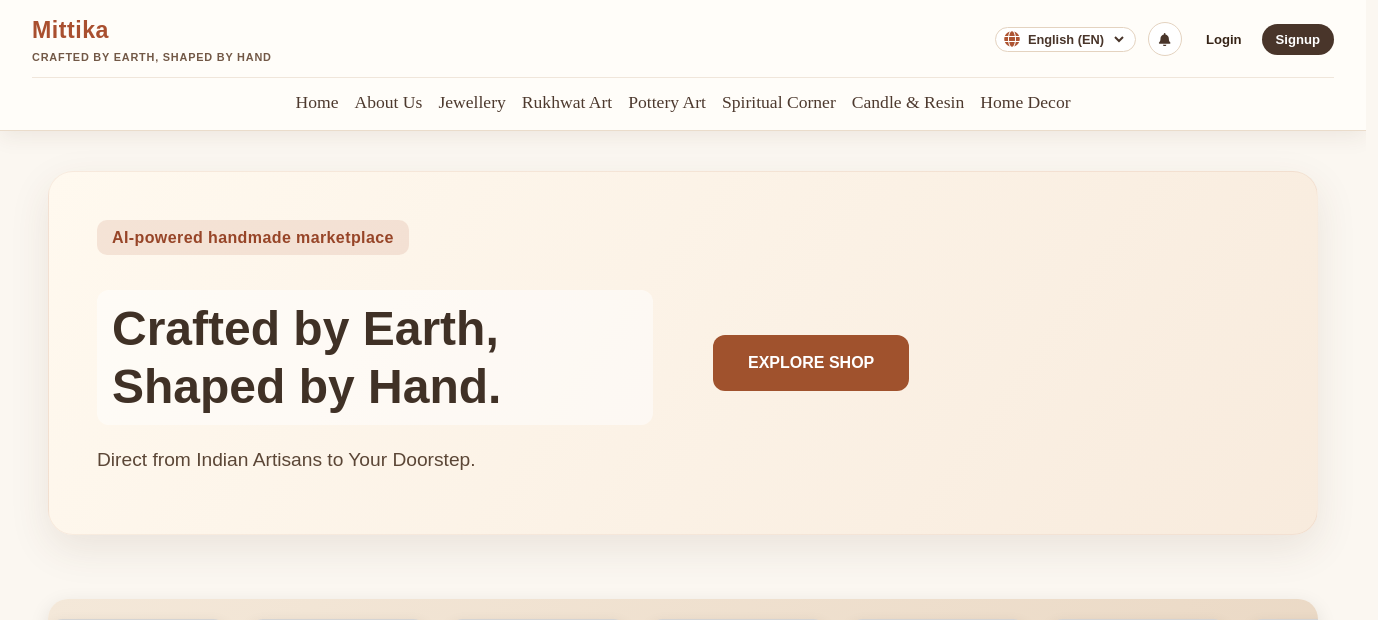
Test: switches storefront content to the selected language and remembers it
The width and height of the screenshot is (1378, 620).
Select "हिंदी (Hindi)" in the dropdown at (1075, 39), box [1024, 31, 1127, 48]
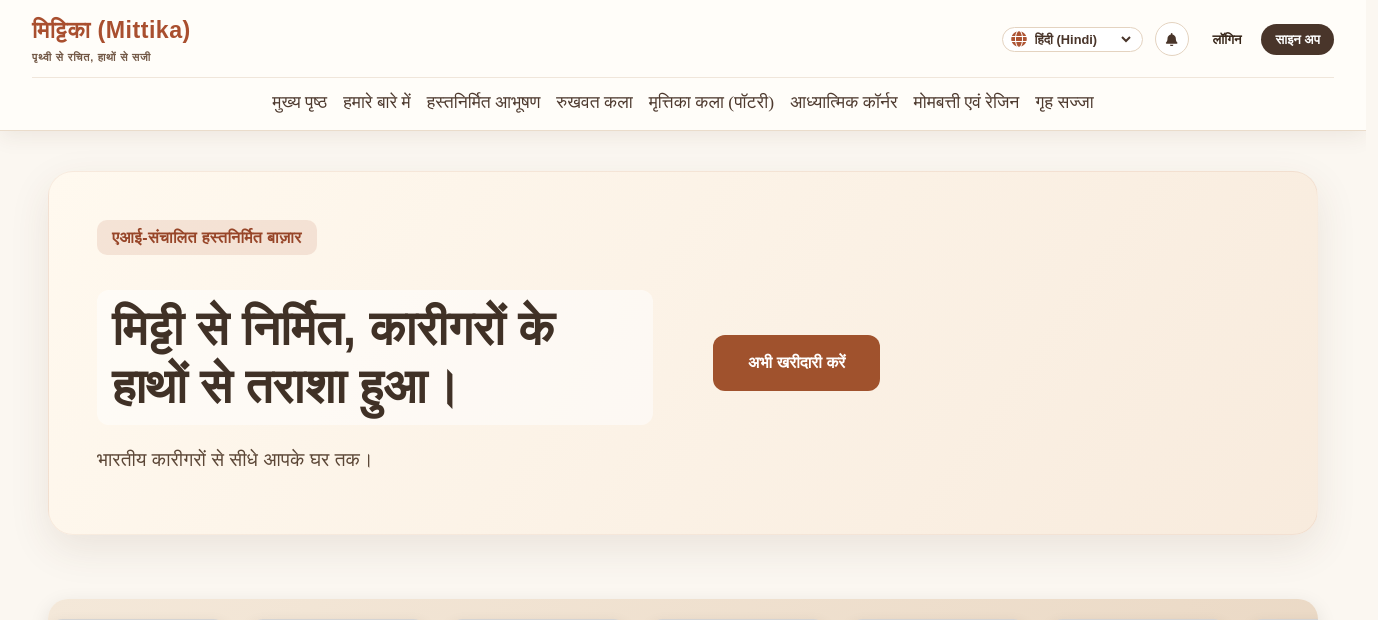
Now the heading "मिट्टी से निर्मित, कारीगरों के हाथों से तराशा हुआ।" is shown, box [97, 290, 653, 426]
